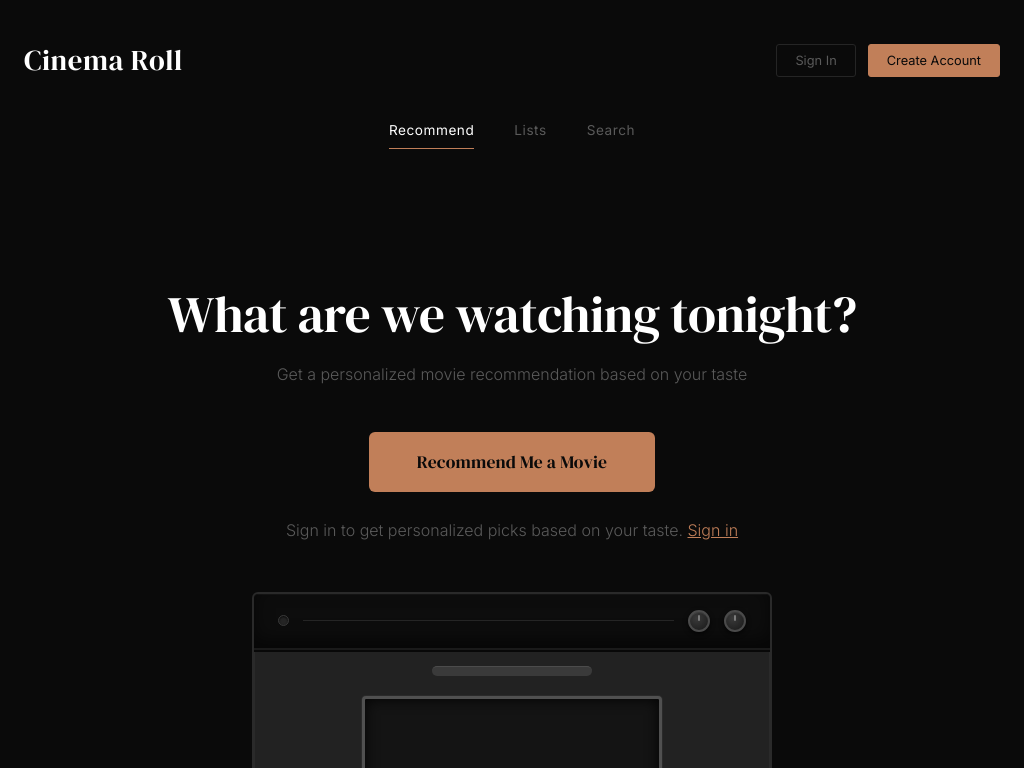
App — lists tab › shows logged-out empty state in Lists tab when not authenticated
Check: the button "Sign In" is shown, box [776, 44, 856, 76]
Click the button "Lists" at {"x": 530, "y": 130}, box [514, 112, 547, 149]
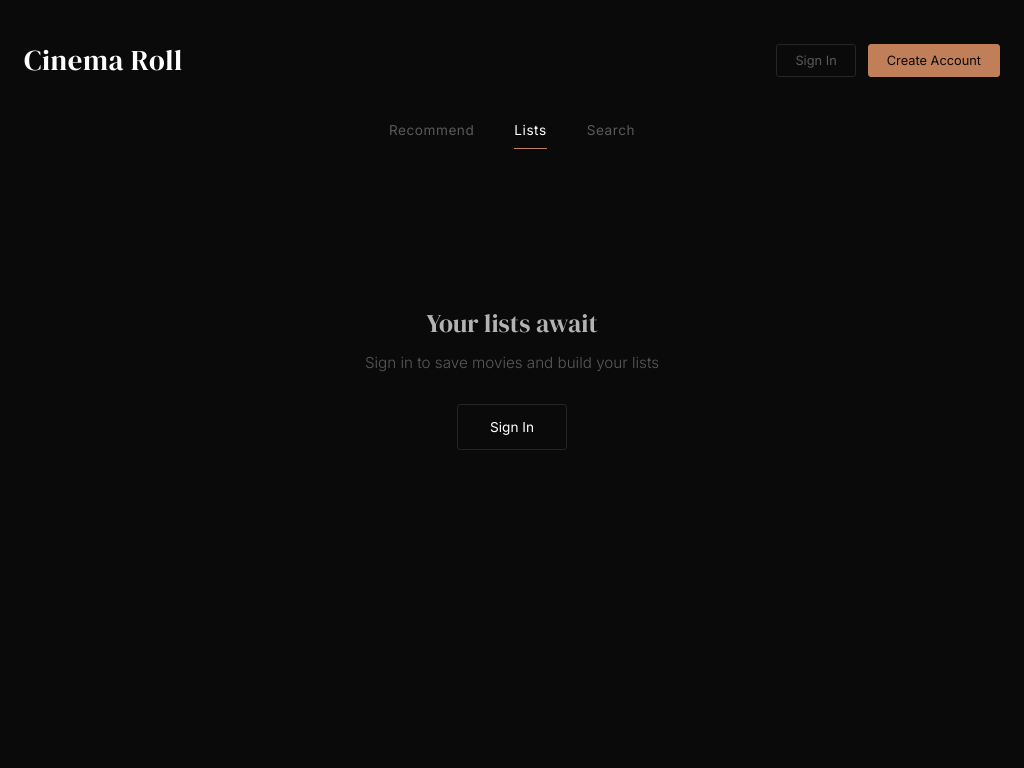
Check: the heading "Your lists await" is shown, box [426, 305, 598, 341]
Check: the text "Sign in to save movies and build your lists" is shown, box [365, 353, 659, 372]
